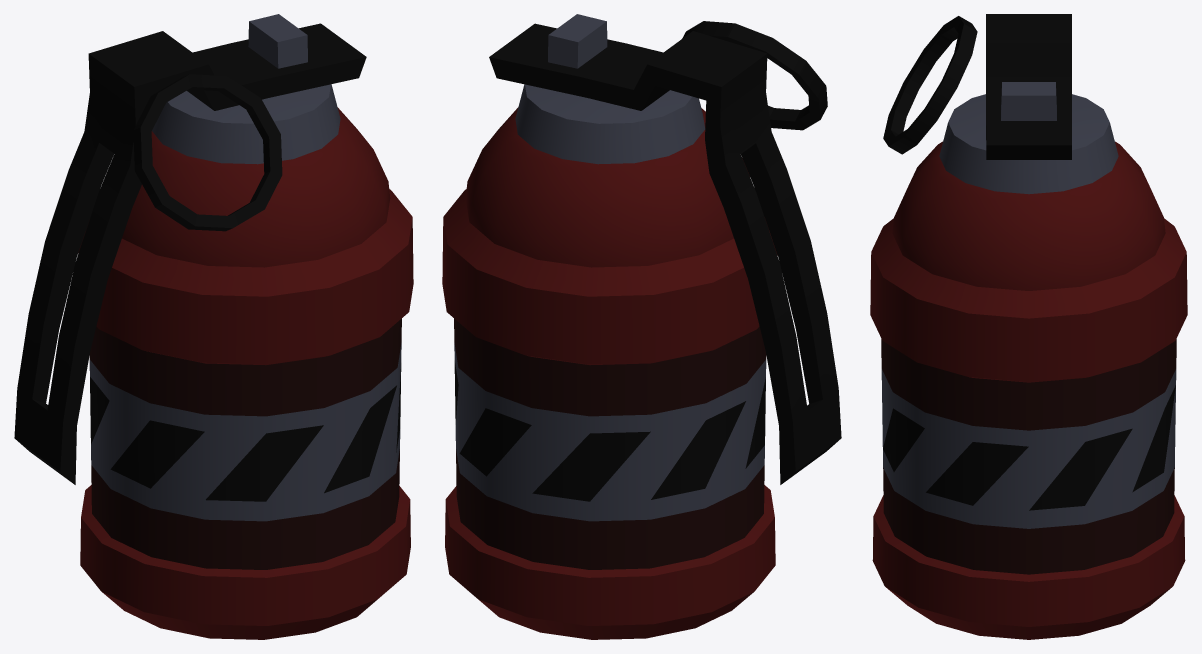
The model's file is FireGrenade.obj.
3 renders of one model, left to right at view 1: azimuth 30°, elevation 25°; view 2: azimuth 150°, elevation 25°; view 3: azimuth 270°, elevation 25°, orthographic. The views are drawn at different scales.
Visible parts, largest first — view 1: FireGrenade_Sphere.002; view 2: FireGrenade_Sphere.002; view 3: FireGrenade_Sphere.002.
Boxes of the visible parts, box(x1,y1,x2,y2) form: FireGrenade_Sphere.002: box(14, 14, 413, 639); FireGrenade_Sphere.002: box(442, 14, 841, 639); FireGrenade_Sphere.002: box(870, 14, 1187, 639).
Size of the model in its own units: 0.5695 by 0.85 by 0.4706.
